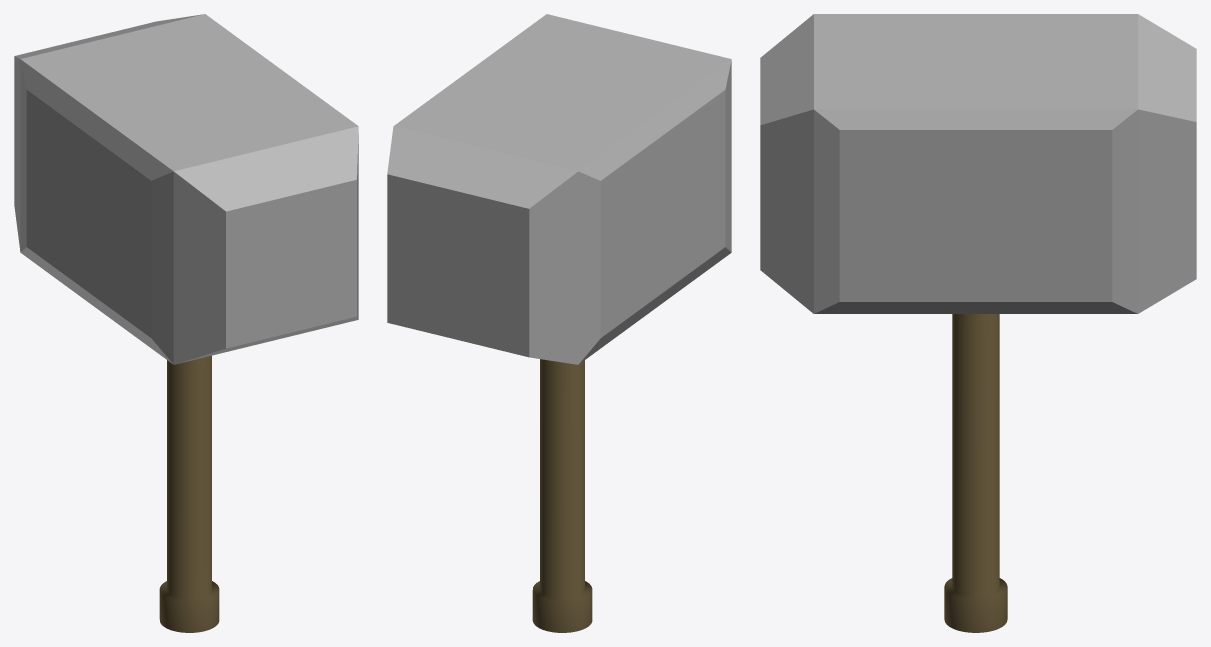
File: thorhammer.fbx
3 renders of one model, left to right at view 1: azimuth 30°, elevation 25°; view 2: azimuth 150°, elevation 25°; view 3: azimuth 270°, elevation 25°, orthographic. The views are drawn at different scales.
Visible parts, largest first — view 1: HammerHead, HammerHandle; view 2: HammerHead, HammerHandle; view 3: HammerHead, HammerHandle.
Part boxes in pixels (left/top/right/bottom): HammerHead: left=14, top=14, right=358, bottom=364; HammerHandle: left=159, top=355, right=219, bottom=632; HammerHead: left=387, top=14, right=731, bottom=364; HammerHandle: left=532, top=359, right=592, bottom=632; HammerHead: left=760, top=14, right=1196, bottom=313; HammerHandle: left=944, top=314, right=1007, bottom=632.
Bounding box in the file's own units: 131 × 329 × 233.
